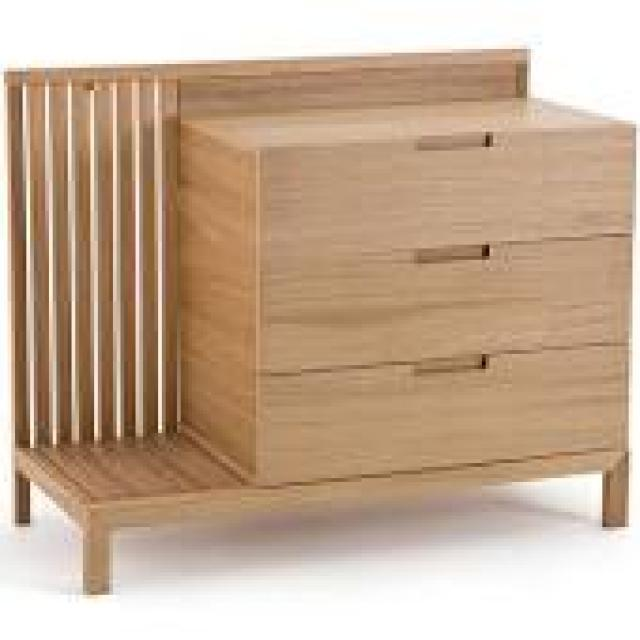mobile-phone: (3, 49, 636, 600)
